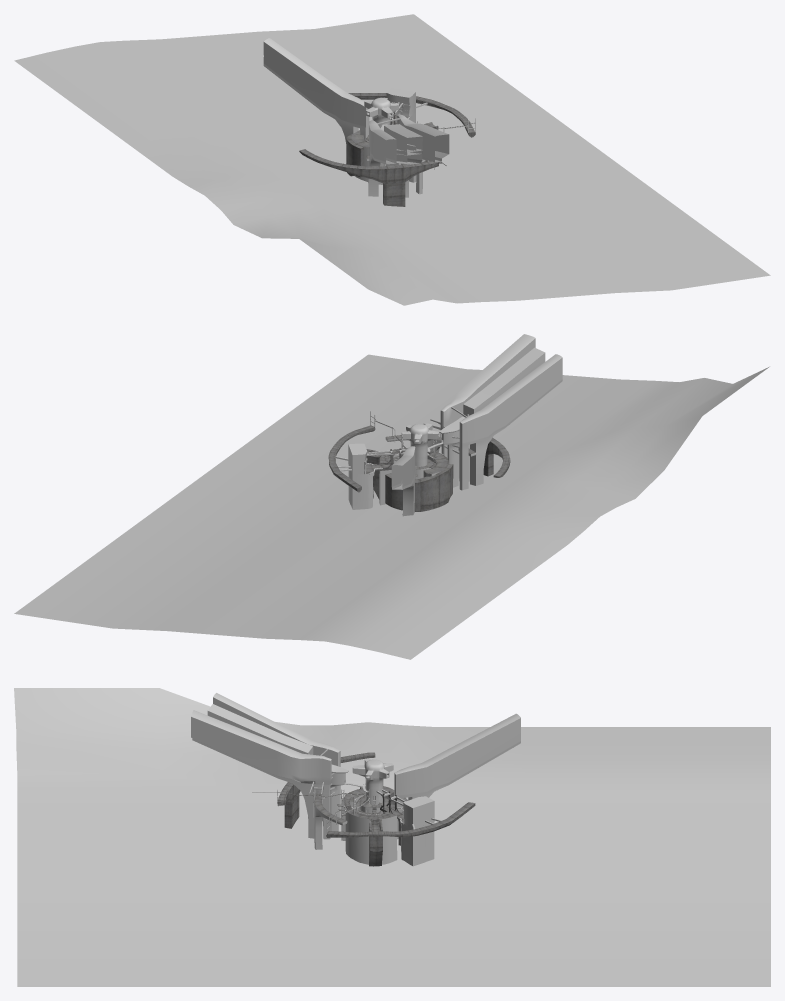
The model's file is SM_StLucia01_Block_00.fbx.
3 renders of one model, top to bottom at view 1: azimuth 30°, elevation 25°; view 2: azimuth 150°, elevation 25°; view 3: azimuth 270°, elevation 25°, orthographic. The views are drawn at different scales.
Parts seen in each view (by area): view 1: Cube.003, Cube.018, Cube.004, Cube.002, Cube.066; view 2: Cube.003, Cube.018, Cube.004, Cube.002, Cube.066; view 3: Cube.003, Cube.018, Cube.004, Cube.002, Cube.066, SM_StLucia01_Block_00.
Part boxes in pixels (x1=…): Cube.003: x1=14, y1=14, x2=770, y2=305; Cube.018: x1=263, y1=38, x2=475, y2=197; Cube.004: x1=299, y1=93, x2=475, y2=206; Cube.002: x1=386, y1=87, x2=427, y2=124; Cube.066: x1=364, y1=97, x2=398, y2=128; Cube.003: x1=14, y1=354, x2=769, y2=659; Cube.018: x1=370, y1=334, x2=562, y2=516; Cube.004: x1=328, y1=425, x2=510, y2=511; Cube.002: x1=335, y1=443, x2=406, y2=509; Cube.066: x1=401, y1=423, x2=439, y2=466; Cube.003: x1=14, y1=688, x2=770, y2=986; Cube.018: x1=191, y1=693, x2=520, y2=839; Cube.004: x1=277, y1=752, x2=475, y2=864; Cube.002: x1=376, y1=789, x2=441, y2=866; Cube.066: x1=352, y1=758, x2=393, y2=804; SM_StLucia01_Block_00: x1=369, y1=819, x2=382, y2=866.
Size of the model in its own units: 47279 by 15633 by 72641.
